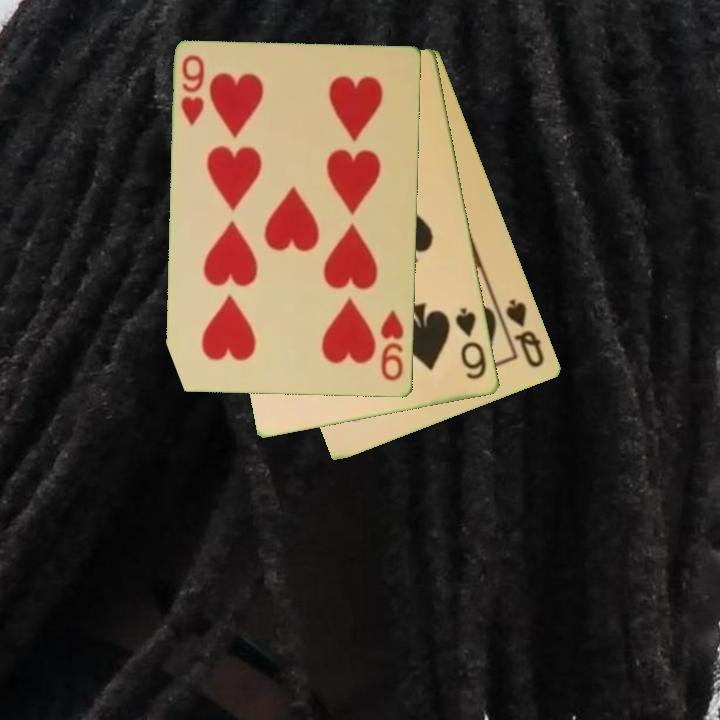6s: (452, 304, 490, 383)
9h: (177, 51, 208, 130), (377, 307, 407, 384)
Qs: (503, 295, 548, 371)
